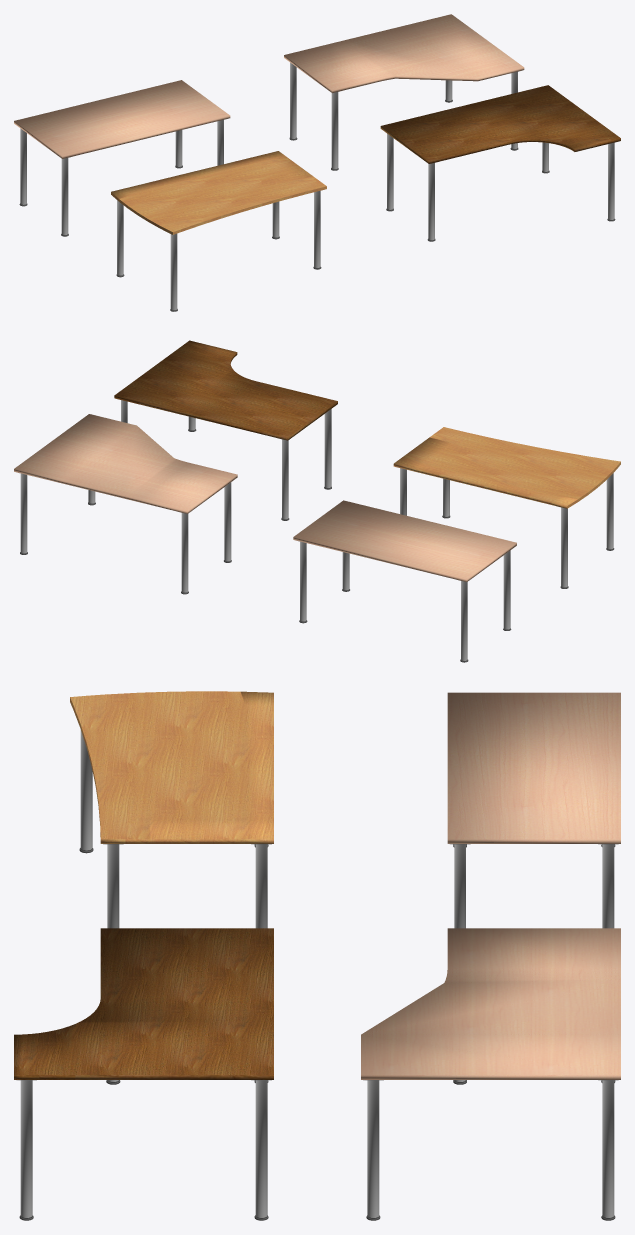
File: wooden_office_tables.glb
The picture shows the model from 3 angles, top to bottom: view 1: azimuth 30°, elevation 25°; view 2: azimuth 150°, elevation 25°; view 3: azimuth 270°, elevation 25°; orthographic projection. The views are drawn at different scales.
Parts seen in each view (by area): view 1: pear_table_Cube.003, teak_table_Cube, alder_table_Cube.002, pear_table_rectangle_Cube.001, leg_downleft3_Cylinder.011, leg_downleft4_Cylinder.012, leg_downleft2_Cylinder.004, leg_downright_Cylinder, leg_downright2_Cylinder.007, leg_downleft_Cylinder.003, leg_upleft3_Cylinder.010, leg_upleft4_Cylinder.013 (+2 smaller); view 2: pear_table_Cube.003, teak_table_Cube, alder_table_Cube.002, pear_table_rectangle_Cube.001, leg_upright4_Cylinder.014, leg_upleft4_Cylinder.013, leg_downleft4_Cylinder.012, leg_downleft_Cylinder.003, leg_downleft3_Cylinder.011, leg_downleft2_Cylinder.004, leg_upleft2_Cylinder.005, leg_upleft_Cylinder.002 (+2 smaller); view 3: pear_table_Cube.003, teak_table_Cube, alder_table_Cube.002, pear_table_rectangle_Cube.001, leg_downright4_Cylinder.015, leg_upright4_Cylinder.014, leg_downright_Cylinder, leg_upright_Cylinder.001, leg_downleft2_Cylinder.004, leg_upright3_Cylinder.009, leg_downright2_Cylinder.007, leg_upright2_Cylinder.006 (+1 smaller).
Boxes of the visible parts, x1,y1,x2,y2 form: pear_table_Cube.003: [284, 14, 524, 93]; teak_table_Cube: [380, 85, 620, 163]; alder_table_Cube.002: [111, 151, 326, 234]; pear_table_rectangle_Cube.001: [14, 80, 230, 158]; leg_downleft3_Cylinder.011: [61, 157, 70, 236]; leg_downleft4_Cylinder.012: [331, 92, 338, 170]; leg_downleft2_Cylinder.004: [170, 233, 177, 311]; leg_downright_Cylinder: [607, 141, 617, 221]; leg_downright2_Cylinder.007: [313, 190, 321, 269]; leg_downleft_Cylinder.003: [427, 163, 435, 241]; leg_upleft3_Cylinder.010: [19, 128, 27, 206]; leg_upleft4_Cylinder.013: [289, 62, 297, 140]; pear_table_Cube.003: [14, 414, 237, 513]; teak_table_Cube: [114, 340, 337, 440]; alder_table_Cube.002: [393, 427, 620, 508]; pear_table_rectangle_Cube.001: [293, 500, 516, 581]; leg_upright4_Cylinder.014: [18, 472, 27, 554]; leg_upleft4_Cylinder.013: [181, 513, 188, 594]; leg_downleft4_Cylinder.012: [224, 482, 231, 562]; leg_downleft_Cylinder.003: [324, 409, 331, 489]; leg_downleft3_Cylinder.011: [503, 550, 511, 630]; leg_downleft2_Cylinder.004: [606, 473, 614, 550]; leg_upleft2_Cylinder.005: [557, 506, 568, 588]; leg_upleft_Cylinder.002: [281, 439, 289, 520]; pear_table_Cube.003: [361, 928, 620, 1079]; teak_table_Cube: [14, 928, 273, 1079]; alder_table_Cube.002: [70, 691, 273, 843]; pear_table_rectangle_Cube.001: [447, 692, 620, 843]; leg_downright4_Cylinder.015: [363, 1080, 383, 1220]; leg_upright4_Cylinder.014: [598, 1080, 618, 1220]; leg_downright_Cylinder: [16, 1080, 36, 1220]; leg_upright_Cylinder.001: [251, 1080, 271, 1220]; leg_downleft2_Cylinder.004: [79, 730, 93, 853]; leg_upright3_Cylinder.009: [598, 844, 618, 928]; leg_downright2_Cylinder.007: [103, 844, 123, 928]; leg_upright2_Cylinder.006: [251, 844, 271, 928].
Bounding box in the file's own units: 27.01 × 4.86 × 18.06.
5 materials, 3 textured.
